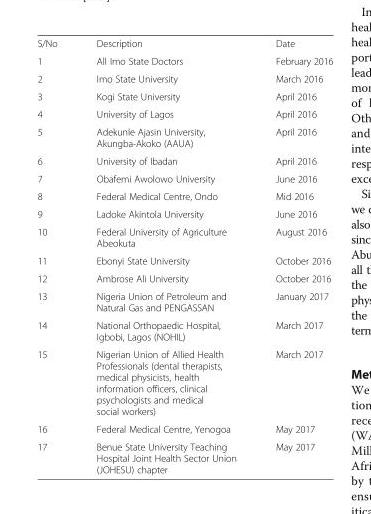table: (36, 37, 332, 474)
table column: (76, 37, 255, 474), (255, 37, 332, 474), (36, 37, 76, 474)
table row: (36, 345, 332, 419), (36, 437, 332, 474), (36, 286, 332, 316), (36, 122, 332, 151), (36, 222, 332, 251), (36, 316, 332, 345), (36, 51, 332, 69), (36, 69, 332, 87), (36, 104, 332, 122), (36, 151, 332, 169), (36, 169, 332, 187), (36, 204, 332, 222), (36, 251, 332, 269), (36, 419, 332, 437), (36, 87, 332, 104), (36, 187, 332, 204), (36, 269, 332, 286), (36, 37, 332, 51)
